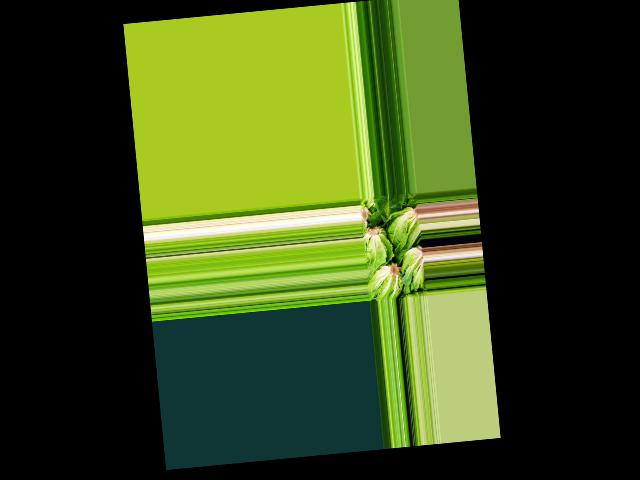lettuce: (373, 193, 399, 220)
